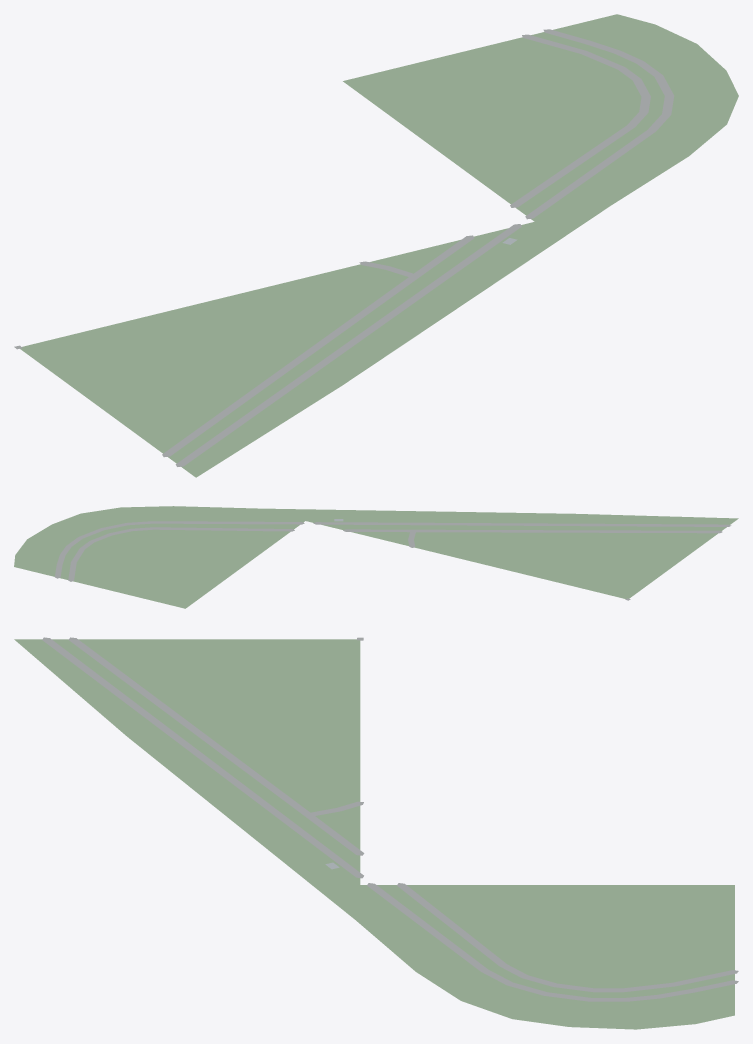
File: -3_-2-known-fine.glb
3 views of the same model, one above another, from view 1: azimuth 30°, elevation 25°; view 2: azimuth 150°, elevation 25°; view 3: azimuth 270°, elevation 25° (orthographic). The views are drawn at different scales.
Bounding box in the file's own units: 304 × 0.15 × 238.
